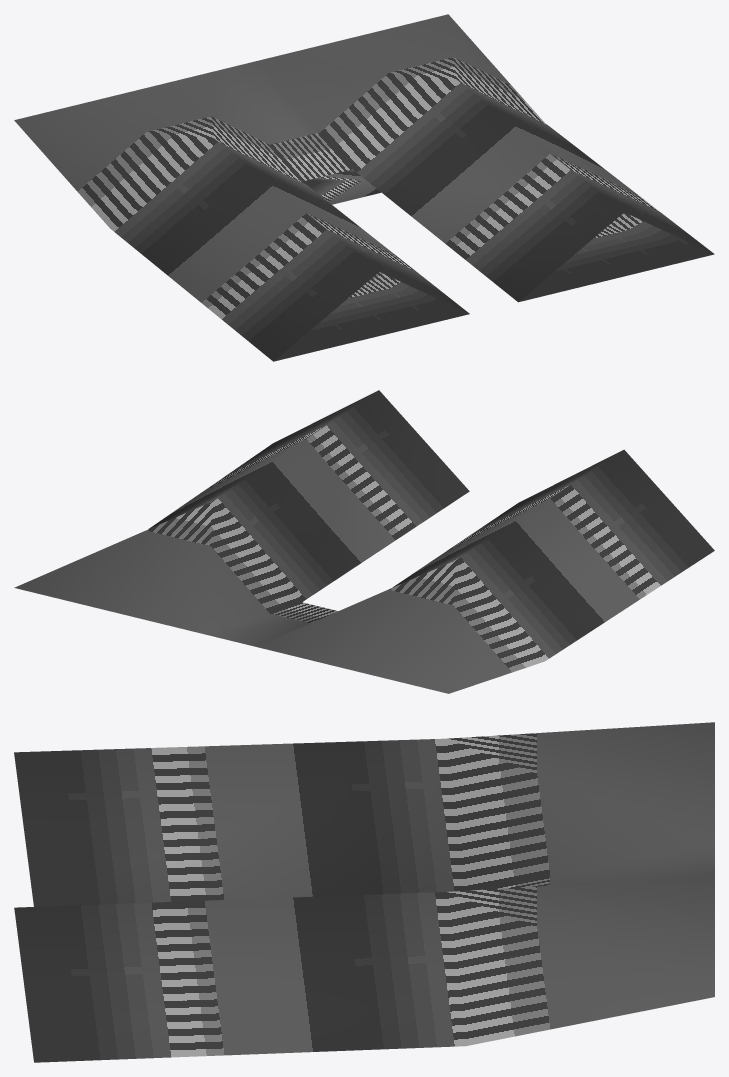
The model's file is 2071pants000_r.gltf.
The picture shows the model from 3 angles, top to bottom: view 1: azimuth 30°, elevation 25°; view 2: azimuth 150°, elevation 25°; view 3: azimuth 270°, elevation 25°; orthographic projection. The views are drawn at different scales.
Visible parts, largest first — view 1: 2071pants000_r; view 2: 2071pants000_r; view 3: 2071pants000_r.
Part boxes in pixels (bbox=[...]): 2071pants000_r: bbox=[14, 14, 714, 361]; 2071pants000_r: bbox=[14, 390, 714, 693]; 2071pants000_r: bbox=[14, 722, 714, 1062].
Bounding box in the file's own units: 0.7793 × 0.1667 × 0.8264.
Materials: 1 (1 with a texture image).
